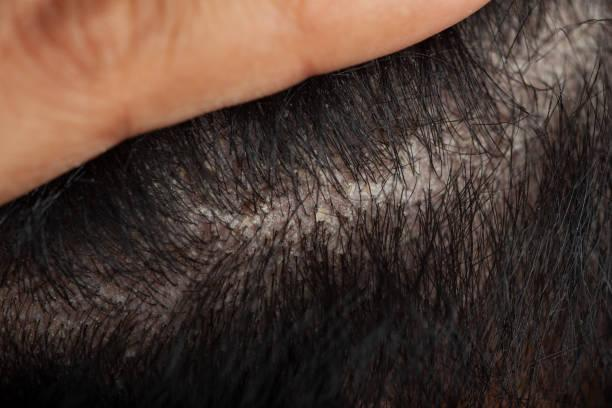dandruff: (295, 184, 340, 242), (220, 192, 245, 238), (156, 157, 181, 192)
